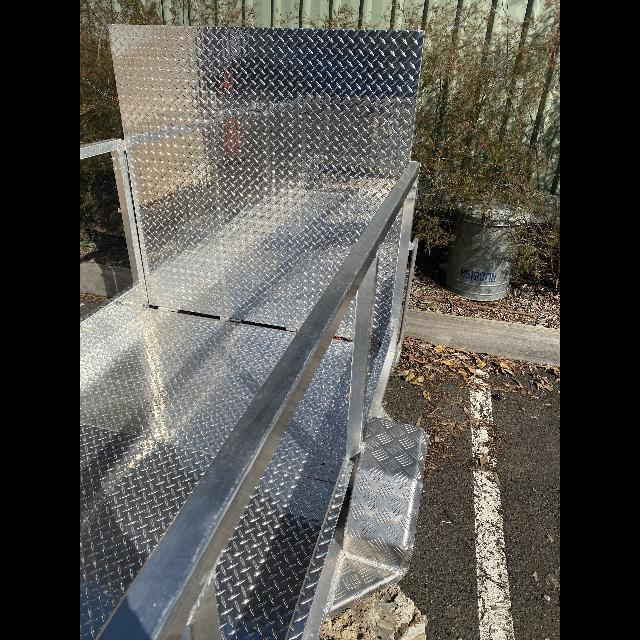Aluminium: (80, 24, 429, 640)
Ferrous Metal: (253, 0, 403, 23)
Galvanized Steel: (445, 226, 511, 301)
